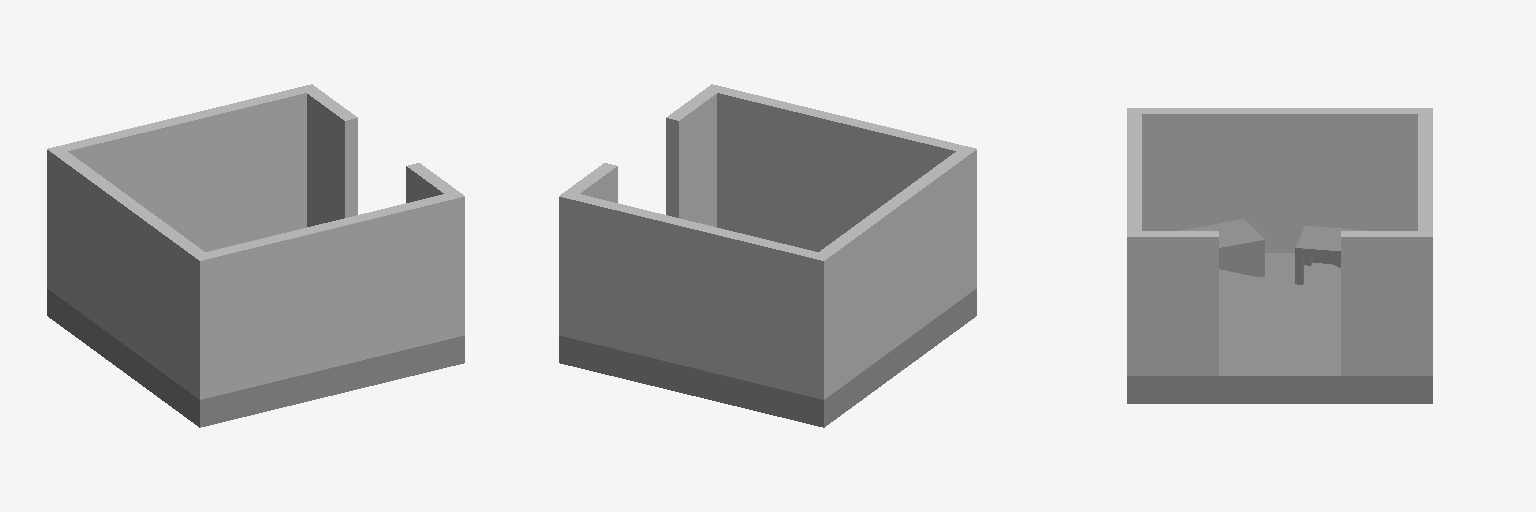
The model's file is big-room_4.obj.
3 renders of one model, left to right at view 1: azimuth 30°, elevation 25°; view 2: azimuth 150°, elevation 25°; view 3: azimuth 270°, elevation 25°, orthographic.
Parts seen in each view (by area): view 1: Cube.004, Cube; view 2: Cube.004, Cube; view 3: Cube.004, Cube, Cube.001, Cube.002.
Boxes of the visible parts, <box> form: Cube.004: <box>47,84,464,399</box>; Cube: <box>47,289,464,427</box>; Cube.004: <box>559,84,976,399</box>; Cube: <box>559,289,976,427</box>; Cube.004: <box>1127,108,1432,375</box>; Cube: <box>1127,253,1432,403</box>; Cube.001: <box>1180,219,1264,276</box>; Cube.002: <box>1295,226,1367,284</box>.
Bounding box in the file's own units: 10 × 6 × 10.